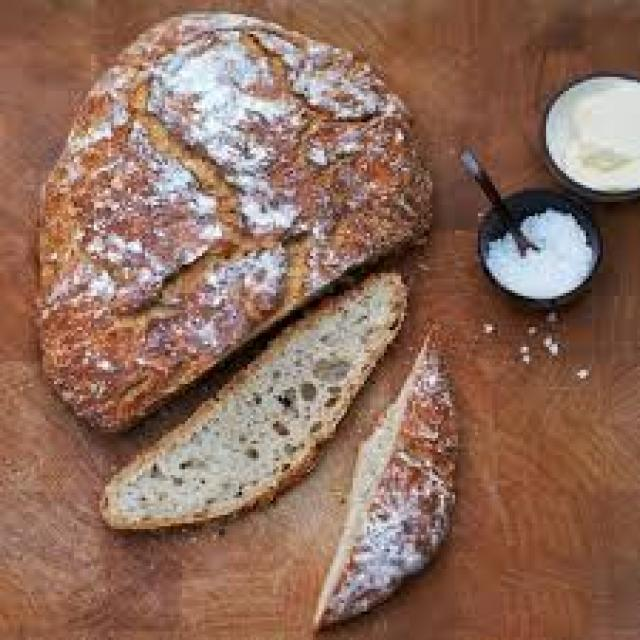organic waste: (32, 9, 430, 426), (94, 267, 407, 532), (307, 318, 458, 632), (486, 216, 589, 293), (563, 88, 637, 168)
